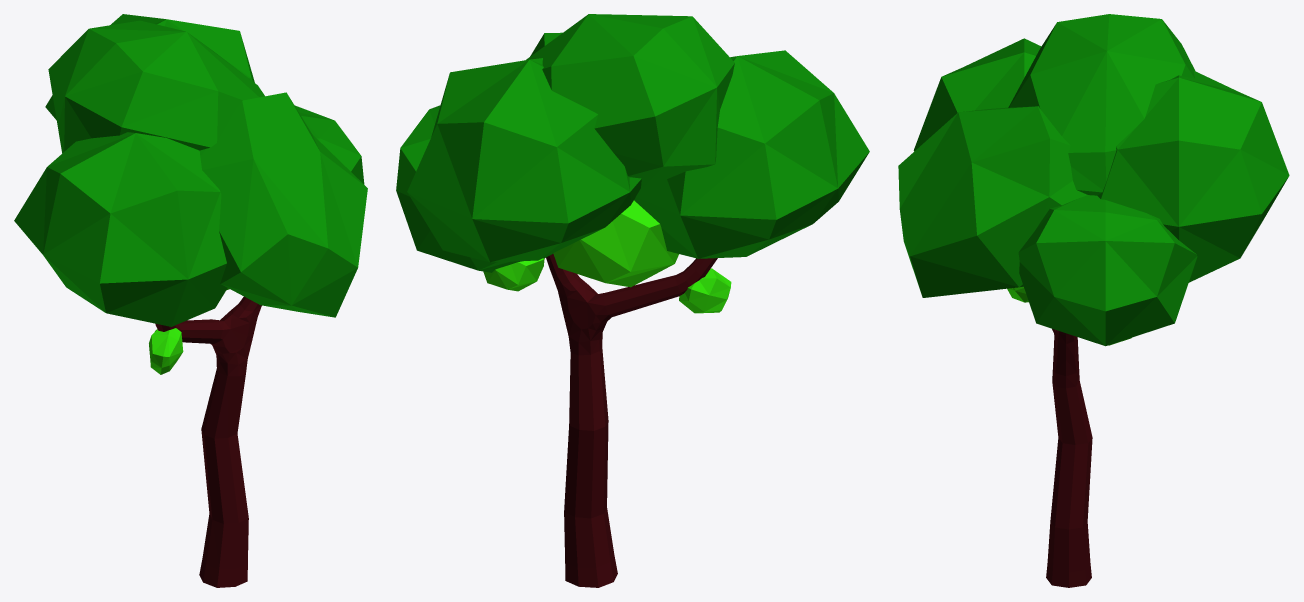
Rendered from greentree.dae.
The picture shows the model from 3 angles, left to right: view 1: azimuth 30°, elevation 25°; view 2: azimuth 150°, elevation 25°; view 3: azimuth 270°, elevation 25°; orthographic projection. The views are drawn at different scales.
Parts seen in each view (by area): view 1: Cube_001, Cube_005, Cube_008, Vert, Cube_004, Cube, Cube_003; view 2: Cube_004, Cube_001, Cube_008, Vert, Cube_007, Cube, Cube_003, Cube_006; view 3: Cube_005, Cube_004, Cube, Cube_008, Vert, Cube_001.
Part boxes in pixels (x1,y1,x2,y2): Cube_001: (14,132,227,326); Cube_005: (199,92,367,317); Cube_008: (48,20,264,153); Vert: (155,296,261,587); Cube_004: (45,14,254,119); Cube: (294,105,364,184); Cube_003: (149,328,183,374); Cube_004: (407,58,641,262); Cube_001: (634,50,869,258); Cube_008: (526,14,734,187); Vert: (546,254,717,587); Cube_007: (553,200,678,287); Cube: (396,105,552,272); Cube_003: (679,268,731,313); Cube_006: (483,258,544,291); Cube_005: (898,106,1087,297); Cube_004: (1097,71,1289,282); Cube: (1018,195,1197,346); Cube_008: (1008,14,1195,195); Vert: (1046,329,1092,587); Cube_001: (913,38,1041,151).
Size of the model in its own units: 5.81 by 5.65 by 8.34.
